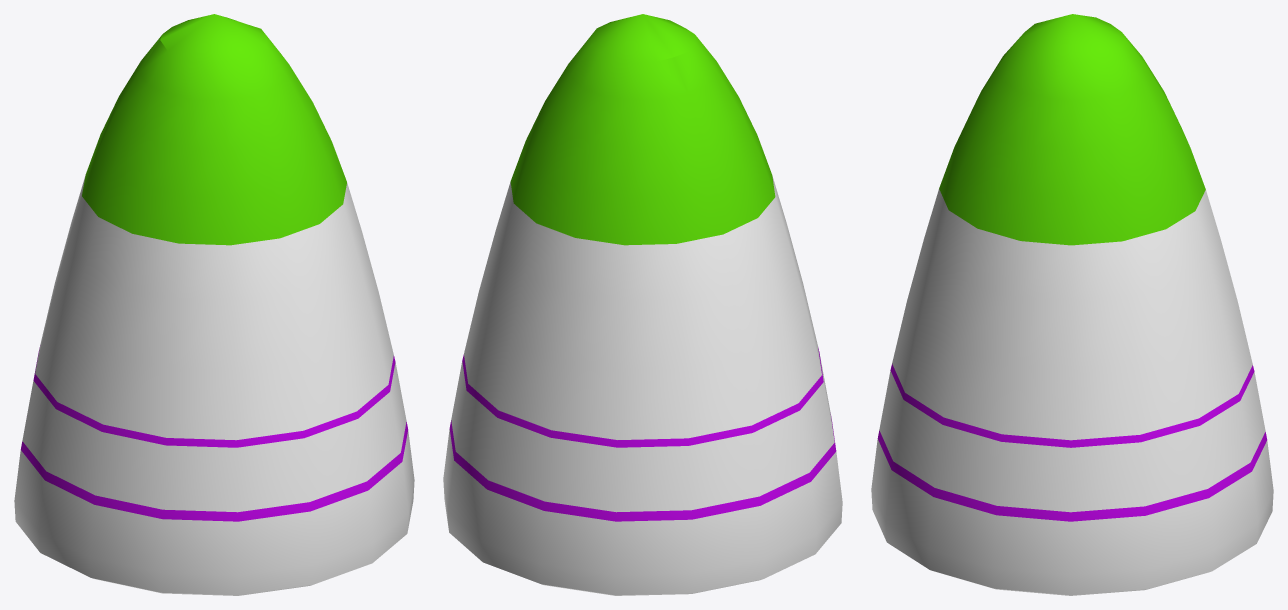
Rendered from head_lv8.fbx.
3 renders of one model, left to right at view 1: azimuth 30°, elevation 25°; view 2: azimuth 150°, elevation 25°; view 3: azimuth 270°, elevation 25°, orthographic.
Visible parts, largest first — view 1: head_lv8-; view 2: head_lv8-; view 3: head_lv8-.
Part boxes in pixels (bbox=[...]): head_lv8-: bbox=[14, 14, 414, 595]; head_lv8-: bbox=[443, 14, 842, 595]; head_lv8-: bbox=[871, 14, 1273, 595].
Size of the model in its own units: 140 by 197 by 140.
